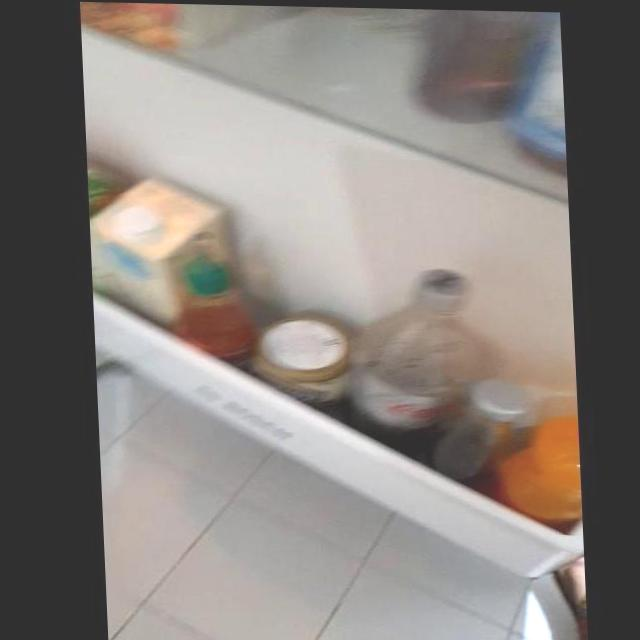milk: (92, 185, 205, 316)
sauce: (181, 237, 264, 360)
